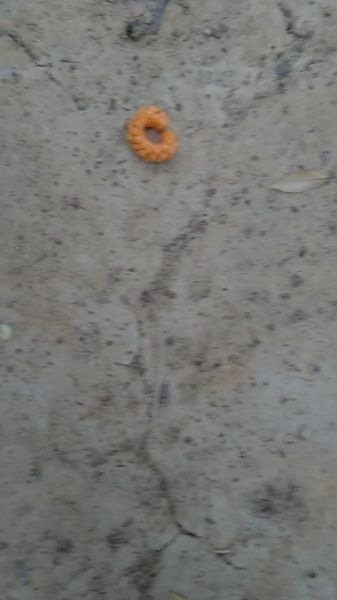eggs: (120, 96, 177, 173)
